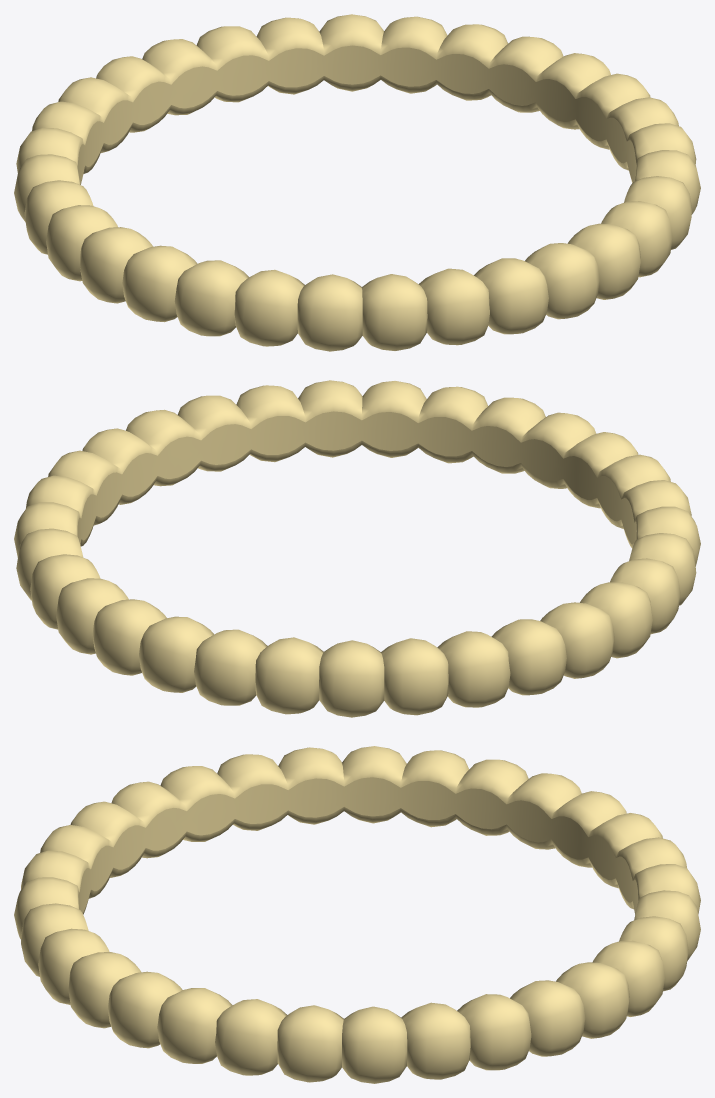
The picture shows the model from 3 angles, top to bottom: view 1: azimuth 30°, elevation 25°; view 2: azimuth 150°, elevation 25°; view 3: azimuth 270°, elevation 25°; orthographic projection.
Visible parts, largest first — view 1: Custom_Metal, Engraving_Mesh; view 2: Custom_Metal, Engraving_Mesh; view 3: Custom_Metal, Engraving_Mesh.
Part boxes in pixels (x1=…): Custom_Metal: x1=14, y1=14, x2=700, y2=351; Engraving_Mesh: x1=77, y1=45, x2=636, y2=184; Custom_Metal: x1=14, y1=380, x2=700, y2=717; Engraving_Mesh: x1=77, y1=411, x2=636, y2=544; Custom_Metal: x1=14, y1=746, x2=700, y2=1083; Engraving_Mesh: x1=78, y1=777, x2=638, y2=914.
Bounding box in the file's own units: 2.09 × 0.2316 × 2.09.
